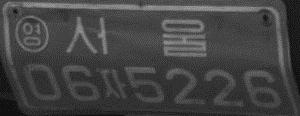0: (23, 63, 61, 101)
2: (204, 67, 242, 106), (166, 66, 203, 105)
5: (126, 65, 165, 104)
6: (244, 69, 281, 108), (61, 64, 98, 101)
서울_D: (64, 15, 208, 58)
영: (13, 14, 50, 54)
자: (99, 67, 125, 99)
